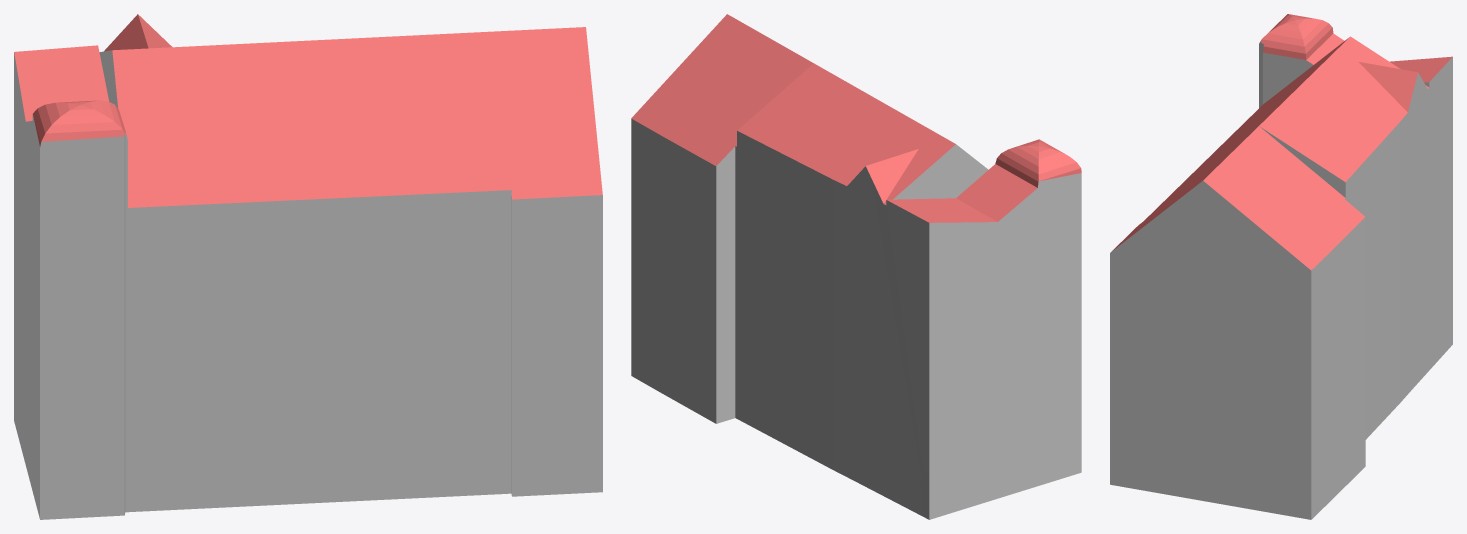
Rendered from DEBY_LOD2_4907189.gltf.
3 renders of one model, left to right at view 1: azimuth 30°, elevation 25°; view 2: azimuth 150°, elevation 25°; view 3: azimuth 270°, elevation 25°, orthographic. The views are drawn at different scales.
Parts seen in each view (by area): view 1: Z_UP; view 2: Z_UP; view 3: Z_UP.
Part boxes in pixels (x1,y1,x2,y2): Z_UP: (14, 14, 602, 519); Z_UP: (631, 14, 1081, 519); Z_UP: (1110, 14, 1452, 519).
Bounding box in the file's own units: 27.71 × 20.04 × 19.44.
